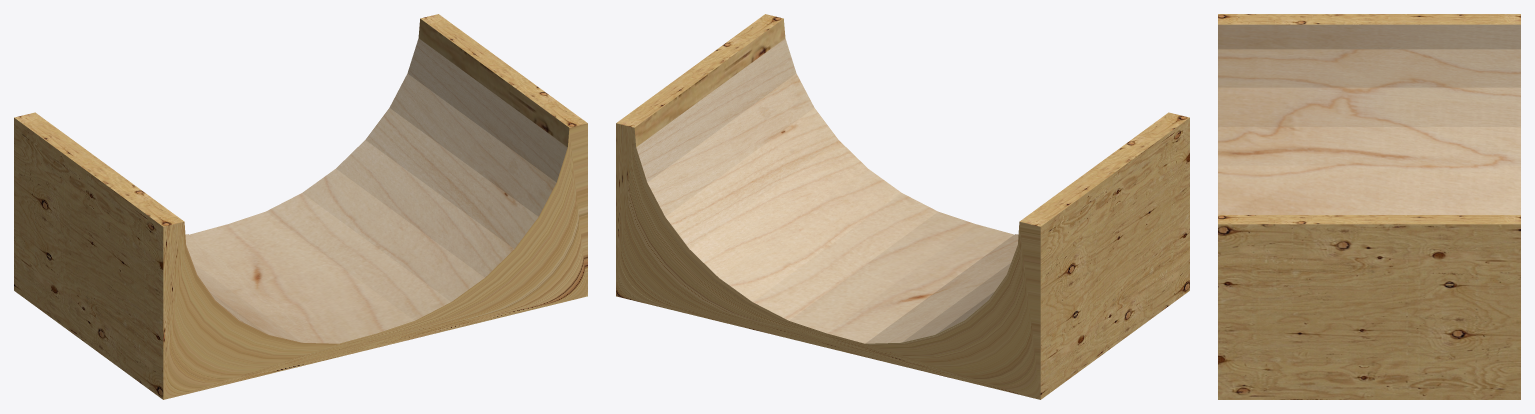
File: halfpipe.obj
3 renders of one model, left to right at view 1: azimuth 30°, elevation 25°; view 2: azimuth 150°, elevation 25°; view 3: azimuth 270°, elevation 25°, orthographic.
Parts seen in each view (by area): view 1: Cube_Cube.001; view 2: Cube_Cube.001; view 3: Cube_Cube.001.
Boxes of the visible parts, x1,y1,x2,y2 form: Cube_Cube.001: [14, 14, 587, 399]; Cube_Cube.001: [616, 14, 1189, 399]; Cube_Cube.001: [1218, 14, 1520, 399].
Size of the model in its own units: 6.64 by 2.59 by 4.04.
Materials: 3 (3 with a texture image).
